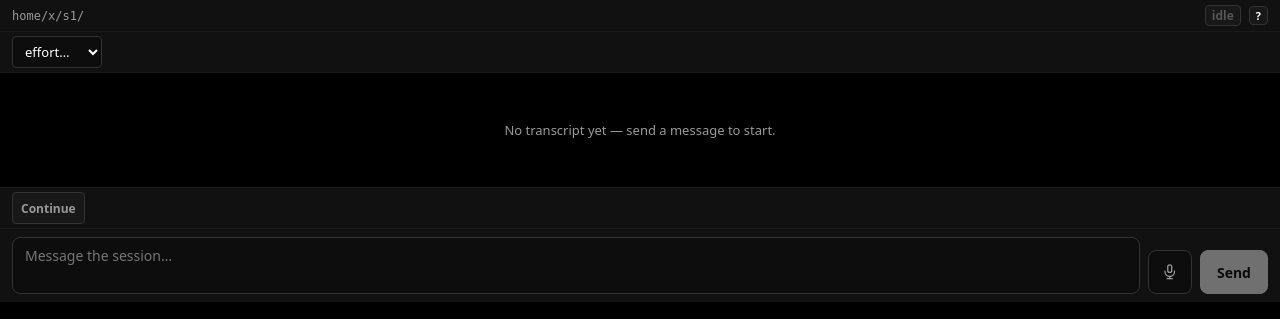
quick prompt bar (CDX-049) › tap inserts into an empty draft and APPENDS to an existing one — never sends
The image size is (1280, 319).
Click the button "Continue". click: (48, 208)
box: [12,192,85,224]
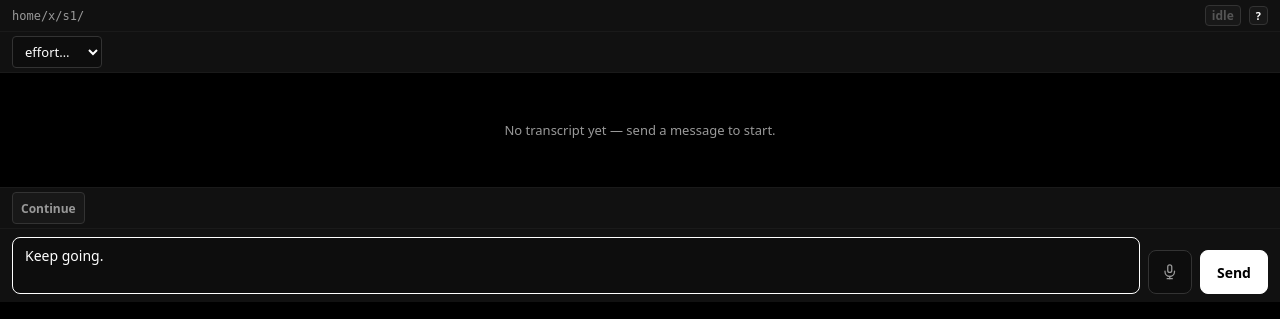
Now the text box with placeholder "Message the session…" holds "Keep going."
Existing draft → appended with a single separating space.
Replace the text in the text box with placeholder "Message the session…" with "First do X.  ". click: (576, 266)
box: [12,237,1140,294]
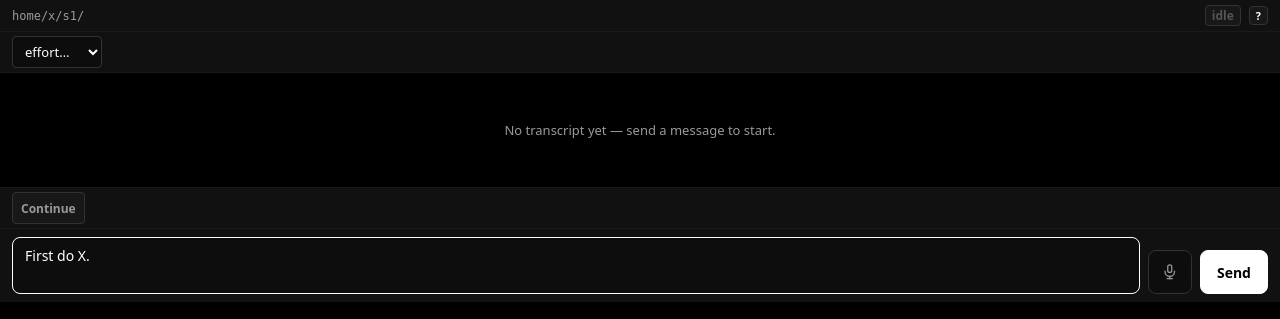
Click the button "Continue". click: (48, 208)
box: [12,192,85,224]
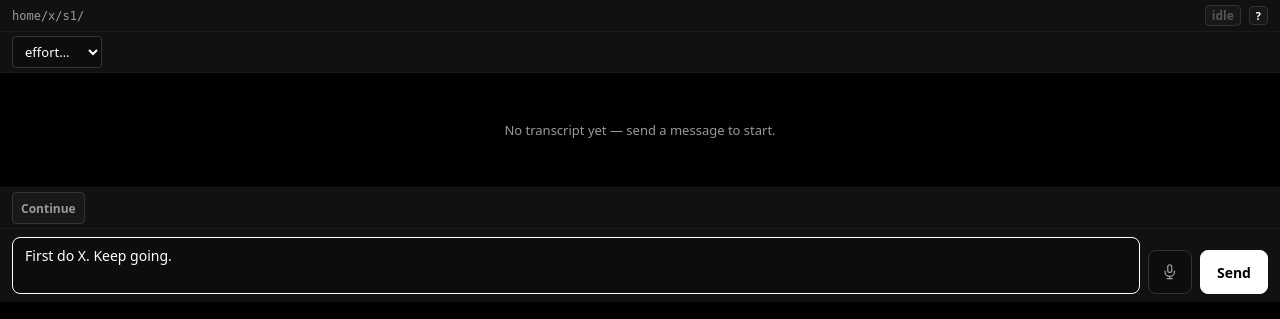
Now the text box with placeholder "Message the session…" holds "First do X. Keep going.", box [12,237,1140,294]
